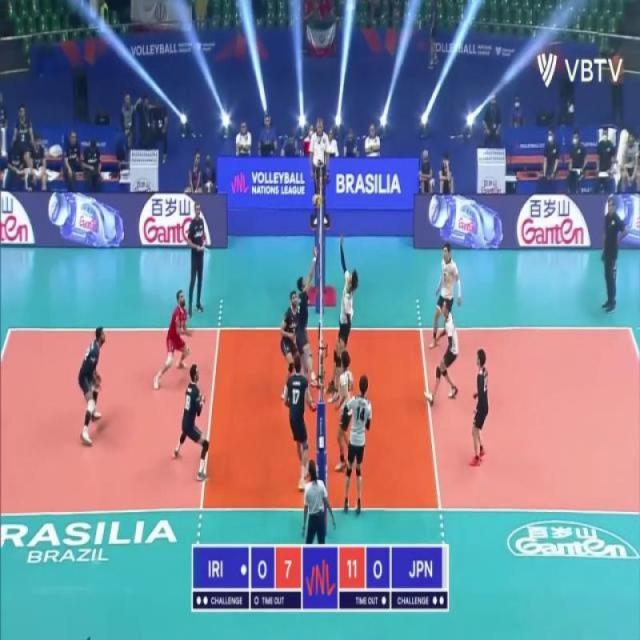volleyball: (311, 192, 322, 210)
